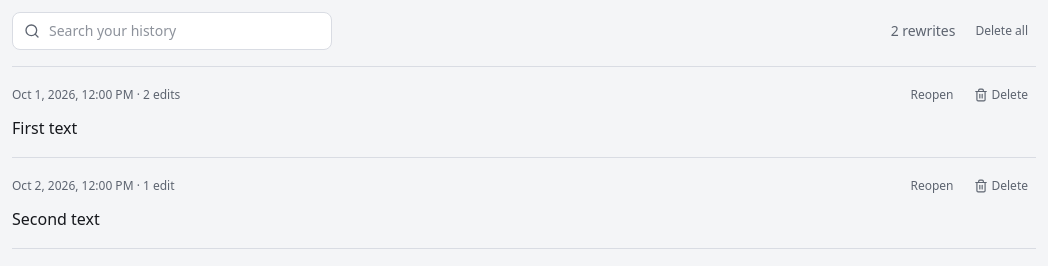
Test: HistoryList › removes an entry once the delete succeeds
The width and height of the screenshot is (1048, 266).
Click the button "Delete" in the row of "2 edits" at (1001, 95), box left=966, top=83, right=1036, bottom=107
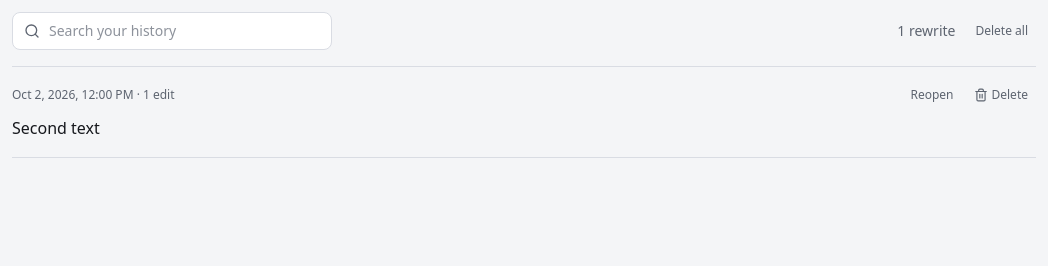
Expected: the text "Second text" is shown, left=12, top=117, right=100, bottom=139
Now the text "First text" is gone
